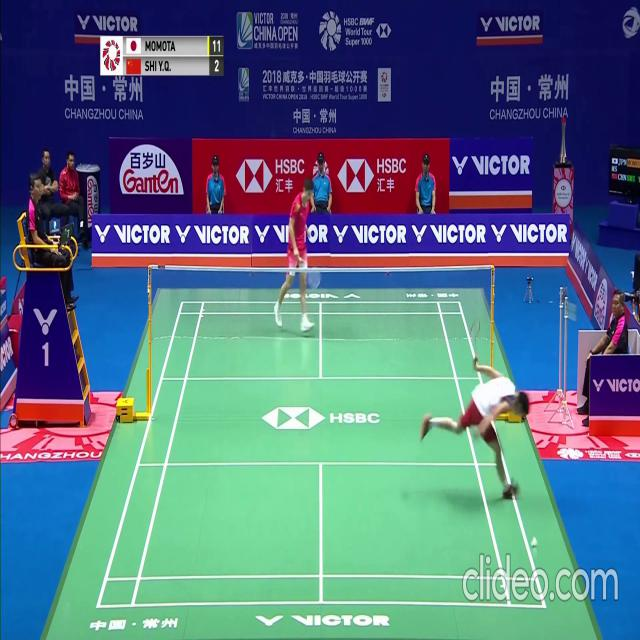Shuttlecock: (531, 538, 536, 545)
